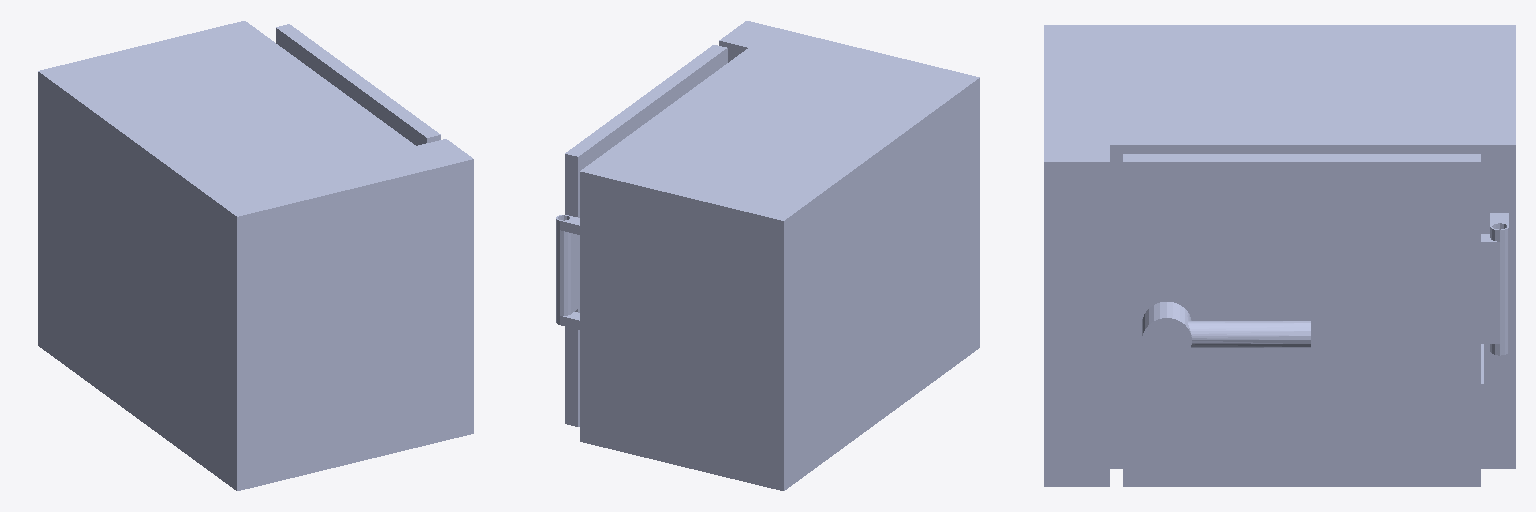
The robot description file, URDF, robot "oven":
<?xml version="1.0" encoding="utf-8"?>
<!-- This URDF was automatically created by SolidWorks to URDF Exporter! Originally created by [author] ([email redacted]) 
     Commit Version: 1.6.0-4-g7f85cfe  Build Version: 1.6.7995.38578
     For more information, please see http://wiki.ros.org/sw_urdf_exporter -->
<robot name="oven">
  <link name="base_link">
    <inertial>
      <origin xyz="-0.045076 -0.04728 0.27093" rpy="0 0 0" />
      <mass value="10" />
      <inertia ixx="12.428" ixy="0.808" ixz="0.17185" iyy="7.6088" iyz="0.40258" izz="10.668" />
    </inertial>
    <visual>
      <origin xyz="0 0 0" rpy="0 0 0" />
      <geometry>
        <mesh filename="meshes/base_link.stl" />
      </geometry>
      <material name="">
        <color rgba="0.79216 0.81961 0.93333 1" />
      </material>
    </visual>
    <collision>
      <origin xyz="0 0 0" rpy="0 0 0" />
      <geometry>
        <mesh filename="meshes/base_link.stl" />
      </geometry>
    </collision>
  </link>
  <joint name="body_door_joint" type="revolute">
    <origin xyz="0.2425 0.35 0.43" rpy="0 0 0" />
    <parent link="base_link" />
    <child link="door_link" />
    <axis xyz="0 0 1" />
    <limit lower="0" upper="3.14" effort="100" velocity="10" />
  </joint>
  <link name="door_link">
    <inertial>
      <origin xyz="0 -0.30722 -0.14419" rpy="0 0 0" />
      <mass value="3" />
      <inertia ixx="0.53402" ixy="0" ixz="0" iyy="0.26539" iyz="-0.0023249" izz="0.27009" />
    </inertial>
    <visual>
      <origin xyz="-0.2425 -0.35 -0.43" rpy="0 0 0" />
      <geometry>
        <mesh filename="meshes/door_link.stl" />
      </geometry>
      <material name="">
        <color rgba="0.79216 0.81961 0.93333 1" />
      </material>
    </visual>
    <collision>
      <origin xyz="-0.2425 -0.35 -0.43" rpy="0 0 0" />
      <geometry>
        <mesh filename="meshes/door_link.stl" />
      </geometry>
    </collision>
  </link>
  <joint name="door_handle_joint" type="revolute">
    <origin xyz="-0.015 -0.53 -0.145" rpy="0 0 0" />
    <parent link="door_link" />
    <child link="handle_link" />
    <axis xyz="-1 0 0" />
    <limit lower="-1.57" upper="1.57" effort="100" velocity="10" />
  </joint>
  <link name="handle_link">
    <inertial>
      <origin xyz="0.063113 0.047728 0" rpy="0 0 0" />
      <mass value="1" />
      <inertia ixx="0.0047297" ixy="-0.00075176" ixz="0" iyy="0.00093388" iyz="0" izz="0.0051703" />
    </inertial>
    <visual>
      <origin xyz="-0.241 0.18 -0.285" rpy="0 0 0" />
      <geometry>
        <mesh filename="meshes/handle_link.stl" />
      </geometry>
      <material name="">
        <color rgba="0.79216 0.81961 0.93333 1" />
      </material>
    </visual>
    <collision>
      <origin xyz="-0.241 0.18 -0.285" rpy="0 0 0" />
      <geometry>
        <mesh filename="meshes/handle_link.stl" />
      </geometry>
    </collision>
  </link>
</robot>

--- What the picture shows (computed from the rendered views, not written in the file) ---
Views: 3 orthographic renders of the robot side by side, from view 1: azimuth 30°, elevation 25°; view 2: azimuth 150°, elevation 25°; view 3: azimuth 270°, elevation 25°.
Robot: oven — 3 links, 2 joints (2 revolute); root link base_link; default pose: all joints at 0.
Visible links, largest first — view 1: base_link, door_link; view 2: base_link, door_link; view 3: door_link, base_link, handle_link.
Boxes of the visible links, box(x1,y1,x2,y2) form: base_link: box(38, 21, 473, 490); door_link: box(276, 24, 440, 145); base_link: box(556, 21, 979, 490); door_link: box(556, 45, 727, 426); door_link: box(1123, 154, 1508, 486); base_link: box(1044, 25, 1515, 486); handle_link: box(1142, 302, 1310, 362).
Size in the robot's own frame: 0.5765 by 0.75 by 0.57 metres.
Meshes: 3 distinct files referenced, 3 mesh visuals loaded (3 binary STL).